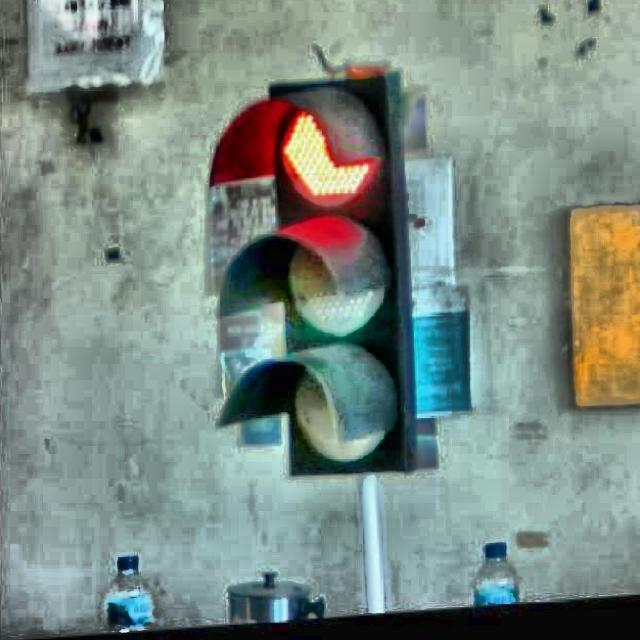red: (251, 77, 416, 471)
